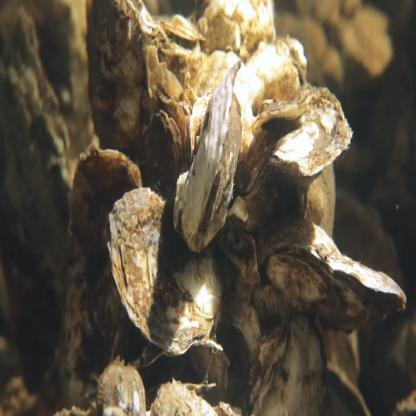Oyster- Indeterminate: (262, 220, 407, 335), (250, 316, 327, 416), (149, 111, 182, 179)
Oyster-Closed: (106, 189, 222, 345), (174, 64, 242, 249), (90, 0, 143, 158), (70, 146, 141, 254), (270, 90, 353, 180), (250, 85, 332, 132), (318, 361, 371, 416), (296, 167, 336, 234), (152, 381, 219, 416), (190, 96, 211, 156)
